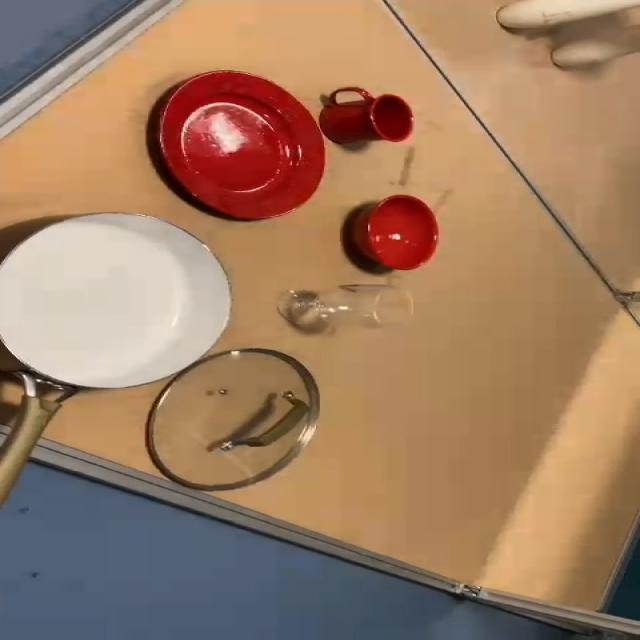Bowl: (356, 191, 436, 278)
Glass: (258, 286, 428, 327)
Plate: (143, 65, 337, 227)
cup: (304, 90, 418, 144)
pot: (2, 204, 240, 522)
